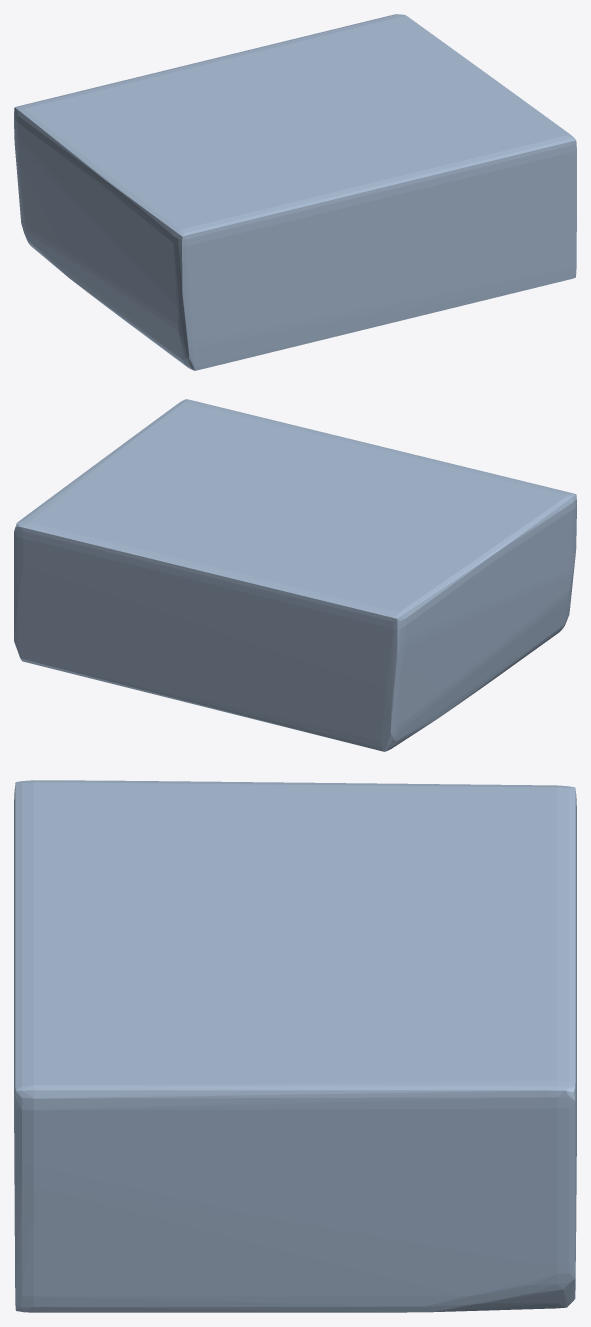
3 views of the same model, one above another, from view 1: azimuth 30°, elevation 25°; view 2: azimuth 150°, elevation 25°; view 3: azimuth 270°, elevation 25° (orthographic). The views are drawn at different scales.
Size of the model in its own units: 0.1903 by 0.064 by 0.1444.
